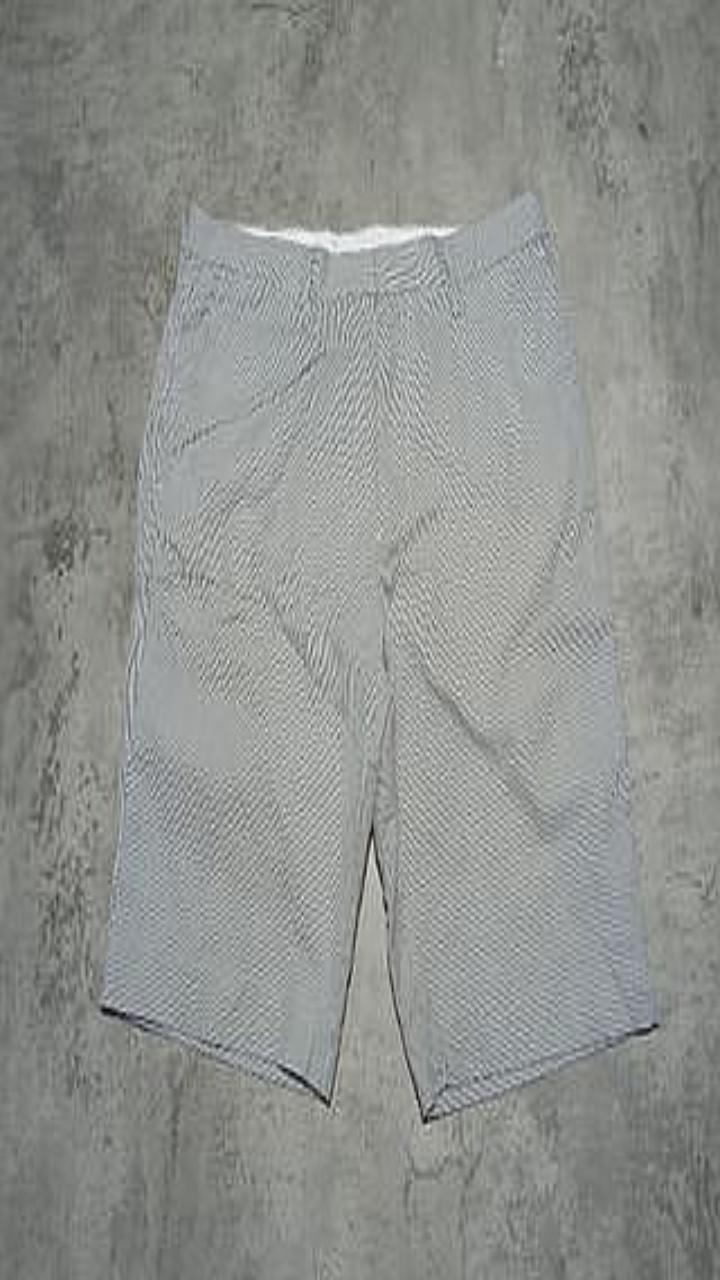Shorts: (100, 191, 657, 1120)
